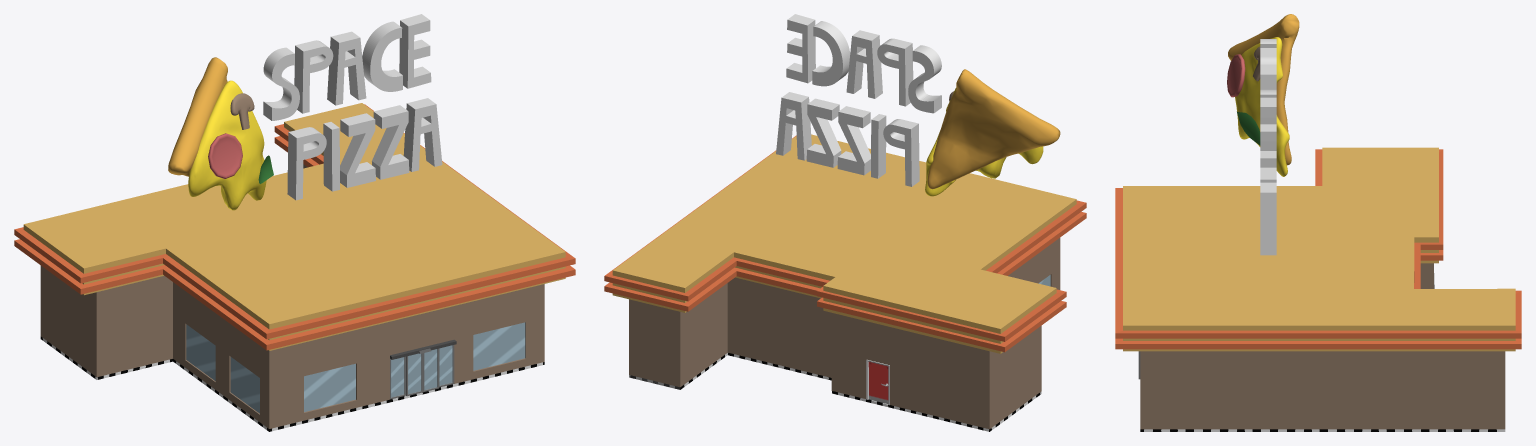
File: SpacePizzaExt.fbx
3 renders of one model, left to right at view 1: azimuth 30°, elevation 25°; view 2: azimuth 150°, elevation 25°; view 3: azimuth 270°, elevation 25°, orthographic. The views are drawn at different scales.
Visible parts, largest first — view 1: Cube.032, Cube.013, Text.001, BREAD.001, Cube.034, Cube.031, Cylinder.001, Cube.023, Cube.018, Cube.022, Cube.040, Cube.027; view 2: Cube.032, Cube.013, Text.001, BREAD.001, Cube.031, Cube.030; view 3: Cube.032, Cube.013, BREAD.001, Text.001, Cube.031, Cylinder.001, Plane.001.
Part boxes in pixels (x1,y1,x2,y2): Cube.032: (14,103,575,350); Cube.013: (40,164,544,428); Text.001: (263,14,442,200); BREAD.001: (168,57,266,210); Cube.034: (186,322,525,413); Cube.031: (40,336,544,431); Cylinder.001: (208,133,242,178); Cube.023: (406,353,422,396); Cube.018: (423,348,438,392); Cube.022: (390,356,405,399); Cube.040: (439,345,454,387); Cube.027: (230,93,254,129); Cube.032: (604,134,1086,353); Cube.013: (629,238,1060,429); Text.001: (776,14,941,186); BREAD.001: (925,69,1060,196); Cube.031: (629,352,1041,431); Cube.030: (868,362,888,403); Cube.032: (1115,147,1521,351); Cube.013: (1140,263,1505,429); BREAD.001: (1228,14,1299,176); Text.001: (1260,39,1276,255); Cube.031: (1140,429,1505,431); Cylinder.001: (1227,54,1245,97); Plane.001: (1237,111,1260,145).
Bounding box in the file's own units: 8445 × 6430 × 7884.
